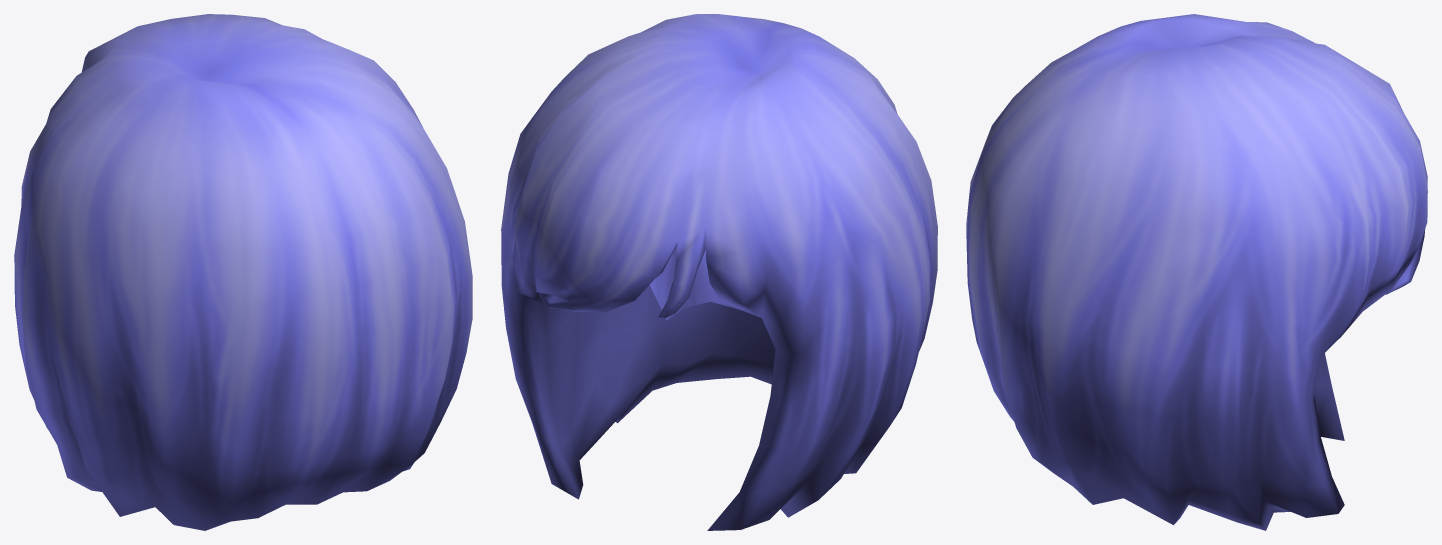
Rendered from Hair_Female_004_textured_sky.glb.
3 renders of one model, left to right at view 1: azimuth 30°, elevation 25°; view 2: azimuth 150°, elevation 25°; view 3: azimuth 270°, elevation 25°, orthographic. The views are drawn at different scales.
Parts seen in each view (by area): view 1: Hair_Female_004; view 2: Hair_Female_004; view 3: Hair_Female_004.
Part boxes in pixels (x1,y1,x2,y2): Hair_Female_004: (14, 14, 472, 530); Hair_Female_004: (501, 14, 937, 530); Hair_Female_004: (966, 14, 1427, 530).
Bounding box in the file's own units: 0.214 × 0.2309 × 0.223.
Materials: 1 (1 with a texture image).
